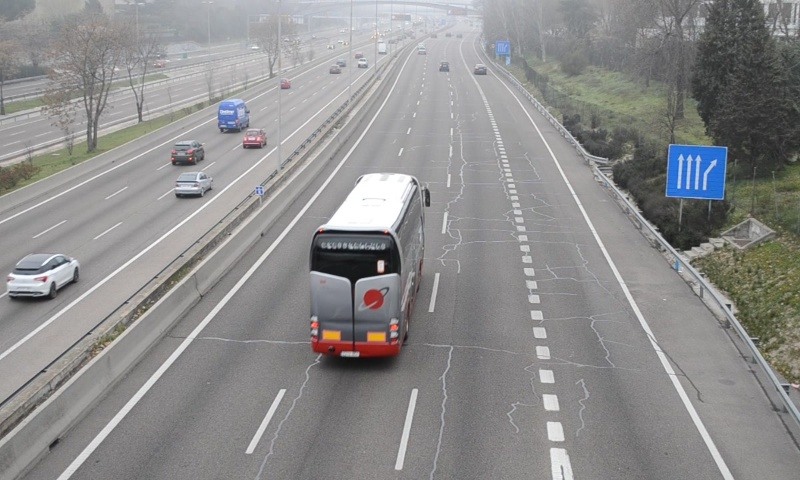bus: (306, 174, 425, 358)
car: (473, 62, 487, 75), (438, 60, 450, 72)
